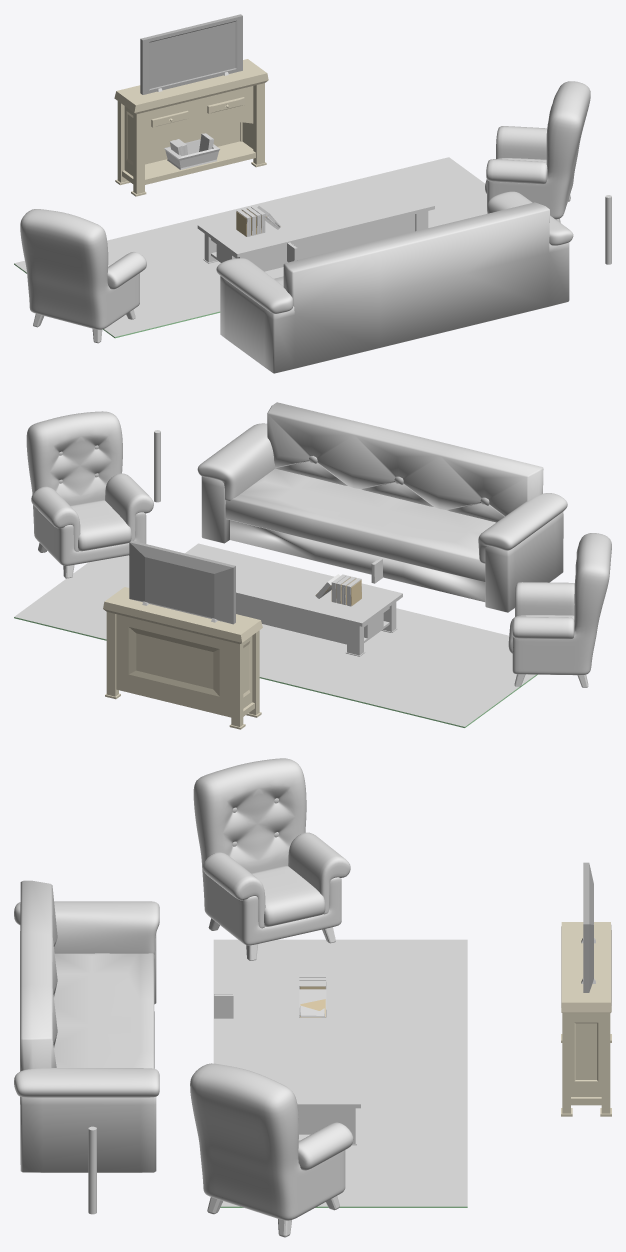
Rendered from sala.fbx.
3 views of the same model, one above another, from view 1: azimuth 30°, elevation 25°; view 2: azimuth 150°, elevation 25°; view 3: azimuth 270°, elevation 25° (orthographic). The views are drawn at different scales.
Parts seen in each view (by area): view 1: sofa, chao, armario tv, mesa, poltrona.002, poltrona.001, tv 2, cesta mesa tv, livro.003, luz chao; view 2: sofa, chao, armario tv, poltrona.001, poltrona.002, mesa, tv 2, livro.003, luz chao; view 3: chao, sofa, poltrona.002, poltrona.001, mesa, armario tv, tv 2, livro.003, luz chao.
Part boxes in pixels (<box>): sofa: <box>216,191,573,373</box>; chao: <box>14,157,487,338</box>; armario tv: <box>114,59,268,196</box>; mesa: <box>197,177,434,271</box>; poltrona.002: <box>20,209,146,343</box>; poltrona.001: <box>485,81,590,222</box>; tv 2: <box>140,14,242,94</box>; cesta mesa tv: <box>164,133,219,169</box>; livro.003: <box>236,206,280,236</box>; luz chao: <box>605,195,611,264</box>; sofa: <box>197,402,567,612</box>; chao: <box>14,555,537,727</box>; armario tv: <box>103,587,262,729</box>; poltrona.001: <box>26,411,153,578</box>; poltrona.002: <box>508,533,611,687</box>; mesa: <box>185,543,402,656</box>; tv 2: <box>129,540,235,624</box>; livro.003: <box>315,574,361,606</box>; luz chao: <box>154,430,160,502</box>; chao: <box>213,939,467,1207</box>; sofa: <box>14,880,159,1172</box>; poltrona.002: <box>193,758,350,960</box>; poltrona.001: <box>190,1063,353,1237</box>; mesa: <box>261,983,360,1145</box>; armario tv: <box>561,922,611,1116</box>; tv 2: <box>581,862,595,992</box>; livro.003: <box>299,974,326,1017</box>; luz chao: <box>88,1126,96,1214</box>.
Size of the model in its own units: 5078 by 1275 by 3709.
